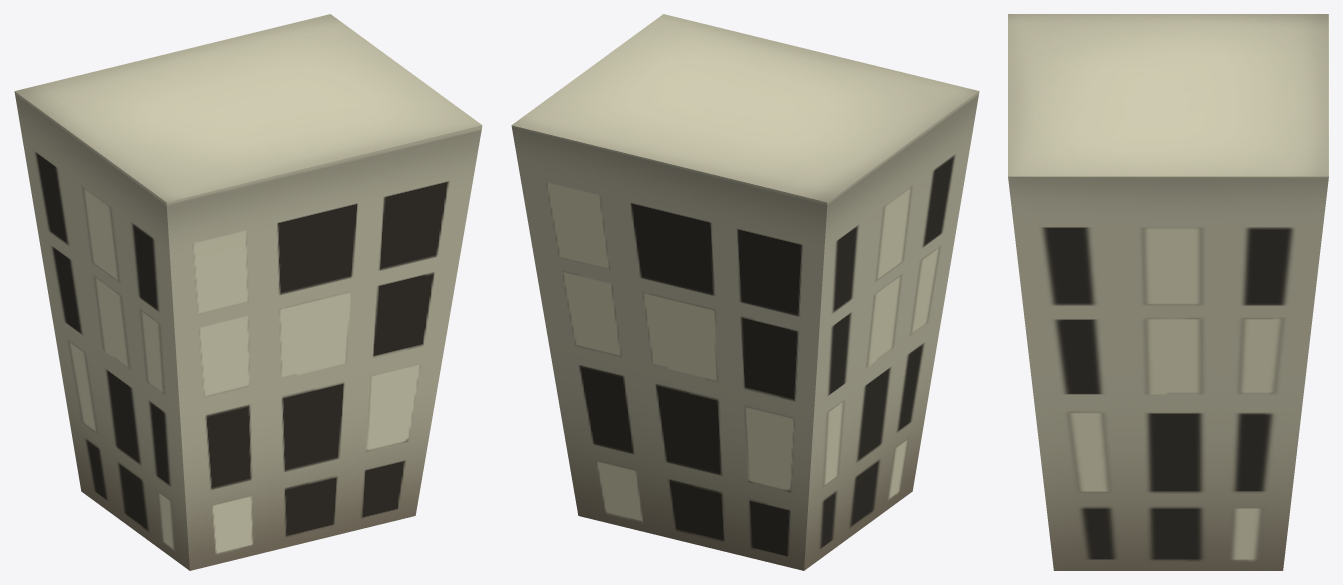
Rendered from Apartment_Building_Object.fbx.
3 views of the same model, side by side, from view 1: azimuth 30°, elevation 25°; view 2: azimuth 150°, elevation 25°; view 3: azimuth 270°, elevation 25° (orthographic). The views are drawn at different scales.
Visible parts, largest first — view 1: ApartmentBuilding_Object; view 2: ApartmentBuilding_Object; view 3: ApartmentBuilding_Object.
Part boxes in pixels (left/top/right/bottom): ApartmentBuilding_Object: left=14, top=14, right=482, bottom=570; ApartmentBuilding_Object: left=511, top=14, right=979, bottom=570; ApartmentBuilding_Object: left=1008, top=14, right=1328, bottom=570.
Bounding box in the file's own units: 7.53 × 9 × 6.27.
1 material, 1 textured.
